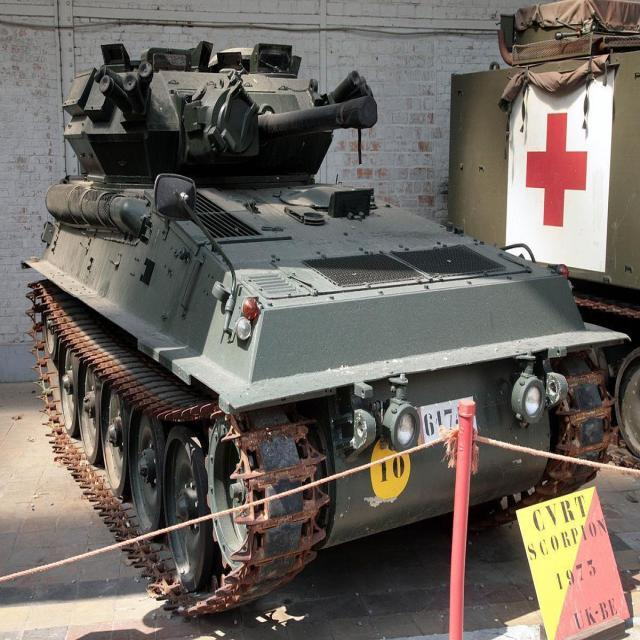MIL_MBT: (22, 24, 619, 584)
